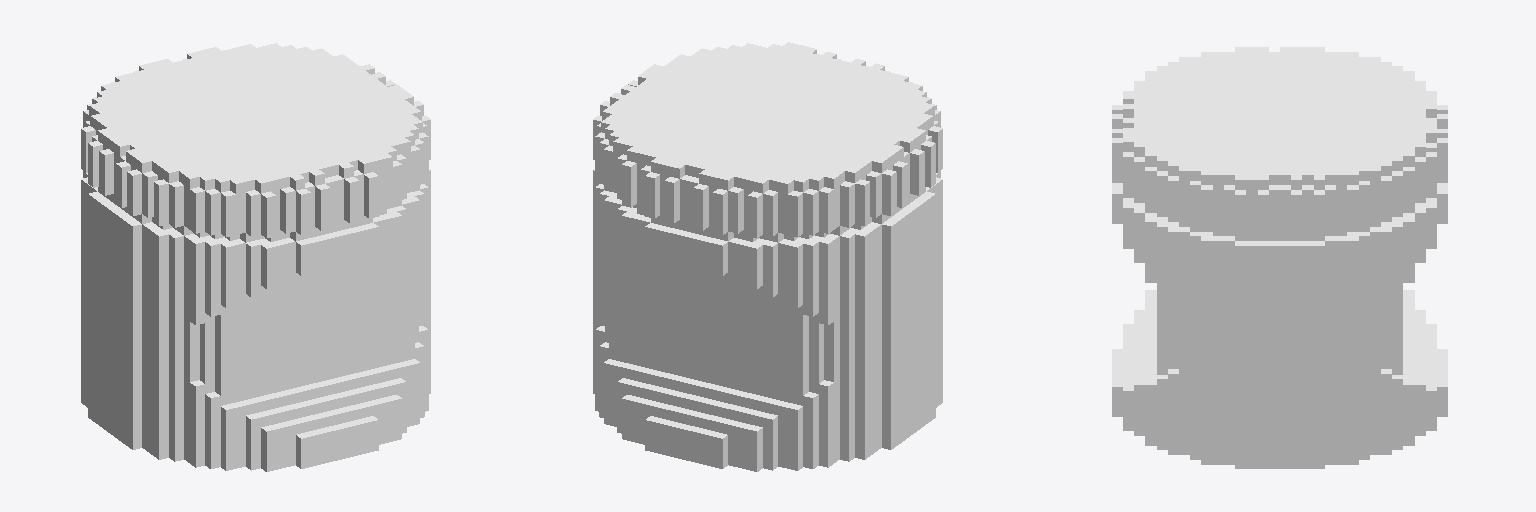
The model's file is Nutella.obj.
3 views of the same model, side by side, from view 1: azimuth 30°, elevation 25°; view 2: azimuth 150°, elevation 25°; view 3: azimuth 270°, elevation 25° (orthographic).
Visible parts, largest first — view 1: object 1; view 2: object 1; view 3: object 1.
Part boxes in pixels (x1,y1,x2,y2): object 1: (81, 43, 430, 471); object 1: (593, 42, 942, 471); object 1: (1112, 47, 1447, 468).
Bounding box in the file's own units: 3 × 2.8 × 3.